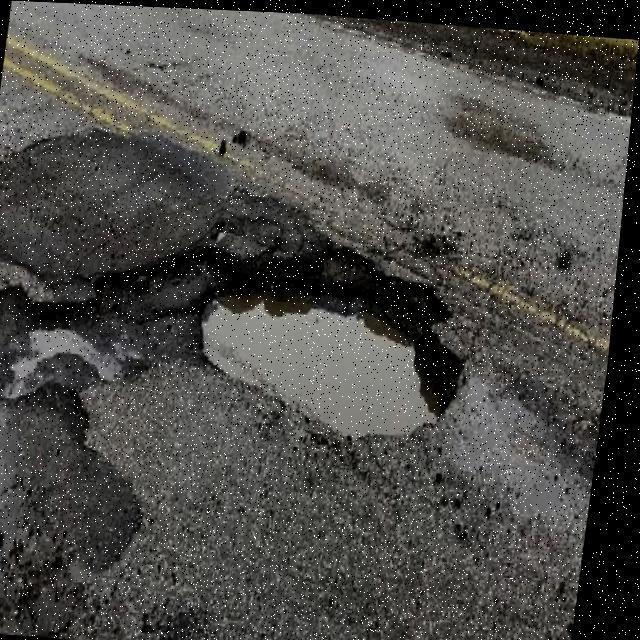pothole: (187, 227, 482, 448), (0, 228, 203, 411)
